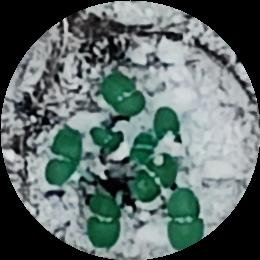Basil: (46, 127, 87, 188), (165, 191, 204, 248), (134, 153, 179, 201), (102, 70, 144, 120), (136, 111, 177, 154), (90, 193, 116, 248)
